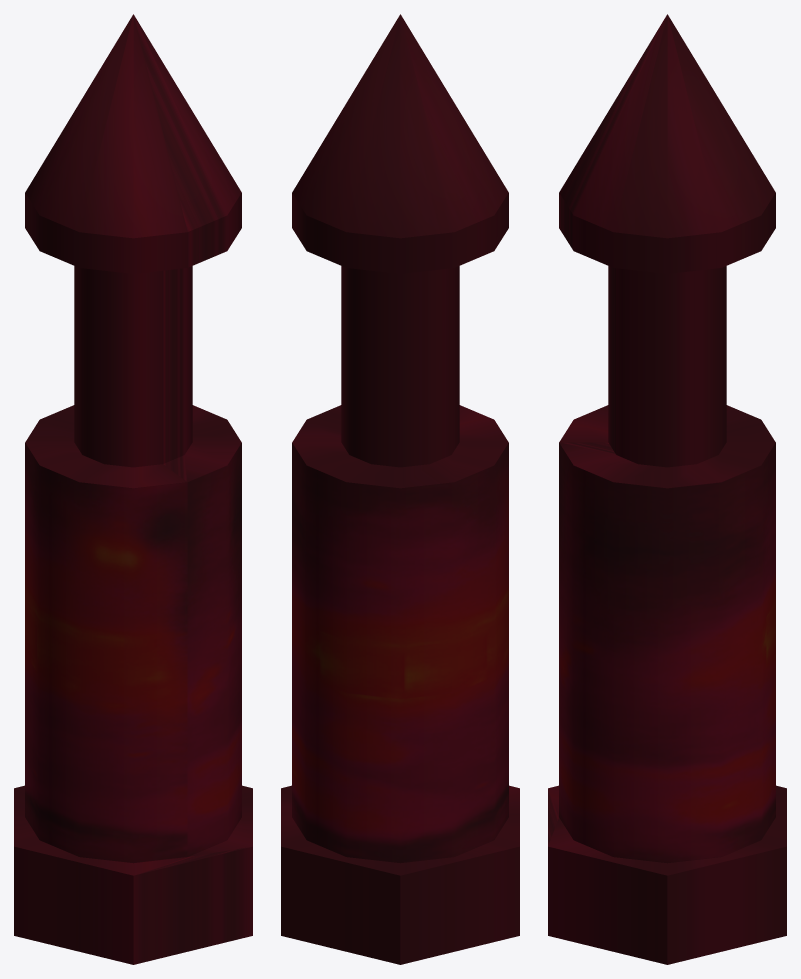
File: PegMetalT2.fbx
3 renders of one model, left to right at view 1: azimuth 30°, elevation 25°; view 2: azimuth 150°, elevation 25°; view 3: azimuth 270°, elevation 25°, orthographic.
Visible parts, largest first — view 1: PegMetalT2; view 2: PegMetalT2; view 3: PegMetalT2.
Boxes of the visible parts, x1,y1,x2,y2 form: PegMetalT2: (14,14,252,964); PegMetalT2: (281,14,519,964); PegMetalT2: (548,14,786,964).
Bounding box in the file's own units: 0.7179 × 2.56 × 0.6218.
1 material, 1 textured.
